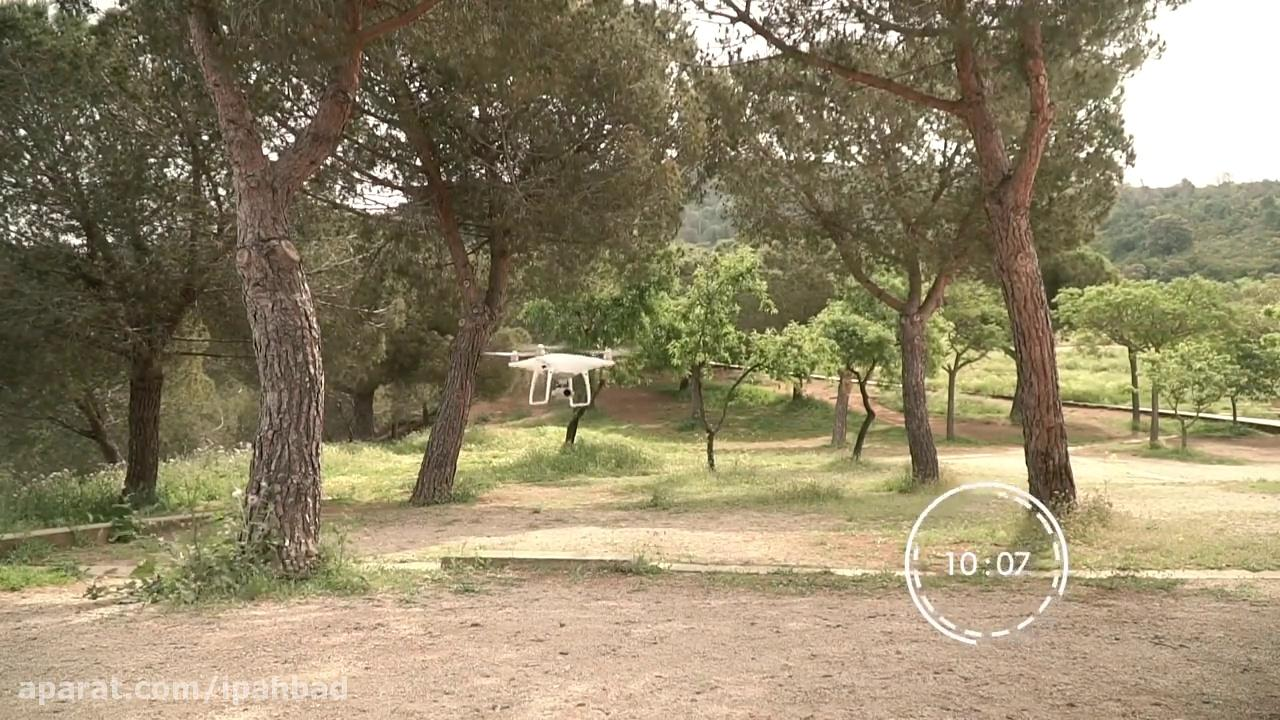drone: (479, 339, 631, 410)
